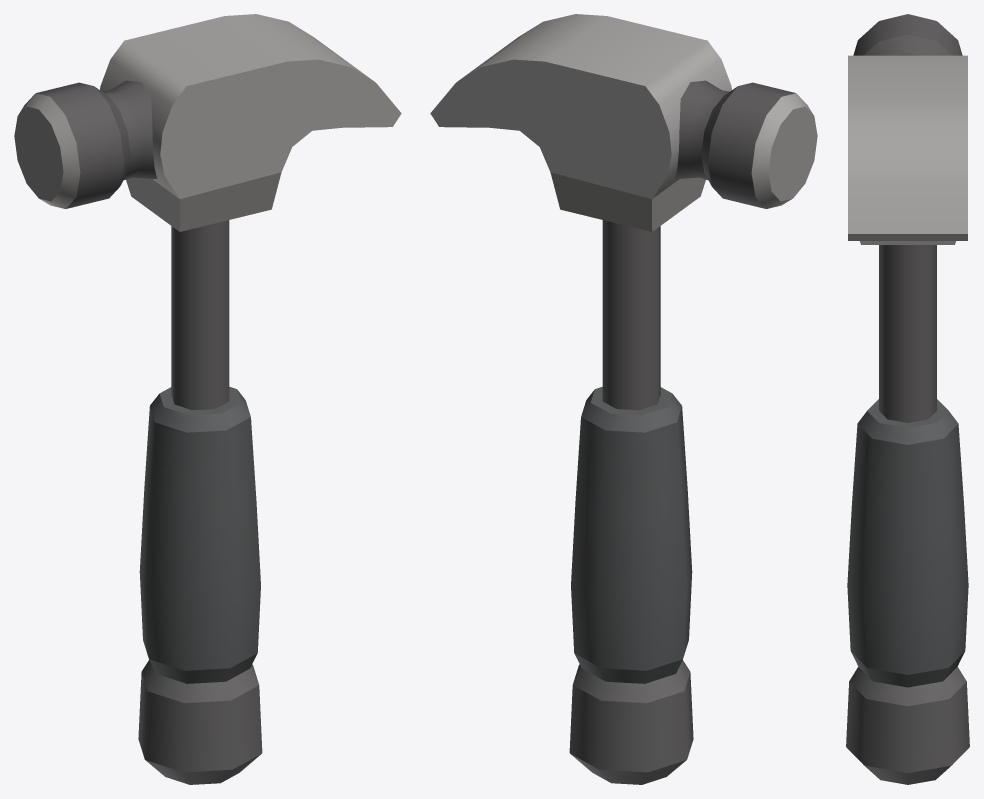
The model's file is Hammer_001.fbx.
The picture shows the model from 3 angles, left to right: view 1: azimuth 30°, elevation 25°; view 2: azimuth 150°, elevation 25°; view 3: azimuth 270°, elevation 25°; orthographic projection. The views are drawn at different scales.
Visible parts, largest first — view 1: Hammer_001; view 2: Hammer_001; view 3: Hammer_001.
Boxes of the visible parts, x1,y1,x2,y2 form: Hammer_001: [14, 14, 401, 784]; Hammer_001: [430, 14, 817, 784]; Hammer_001: [846, 14, 969, 784].
Bounding box in the file's own units: 19.06 × 6.39 × 39.32.
